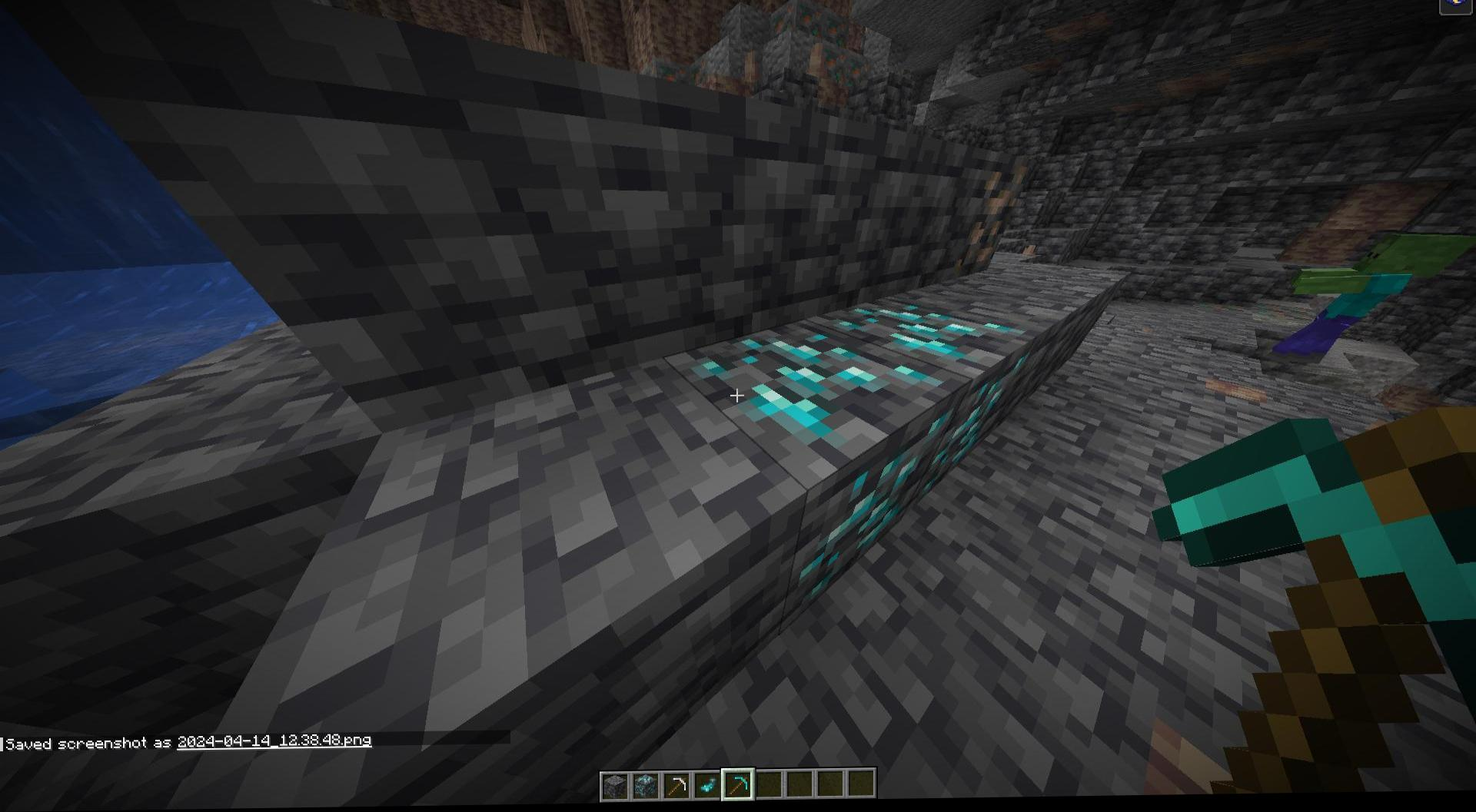diamond ore: (683, 321, 929, 464), (802, 455, 927, 617), (836, 301, 1017, 366), (946, 357, 1029, 492)
iron ore: (963, 164, 1025, 276)
